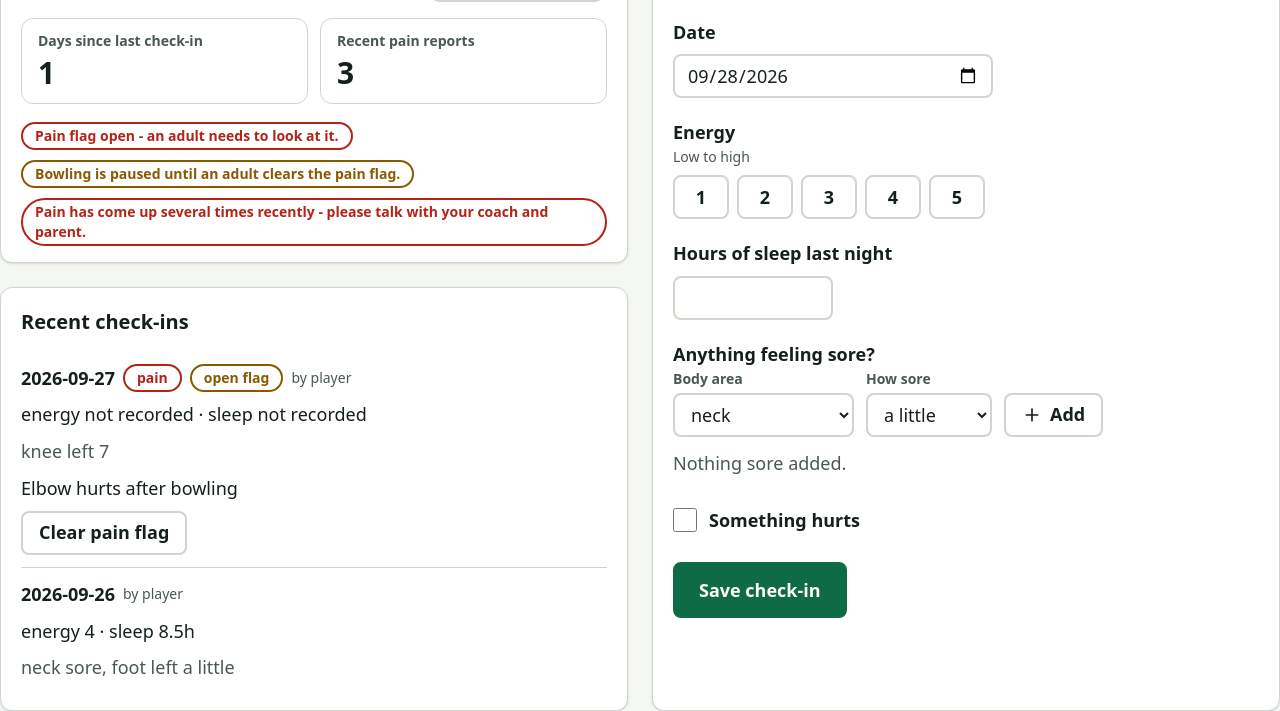
Test: adult pain clearance › closes on Escape and stringifies non-Error failures
(page scrolled)
Click the button "Clear pain flag" at (104, 533), box top-left (21, 511), bottom-right (187, 555)
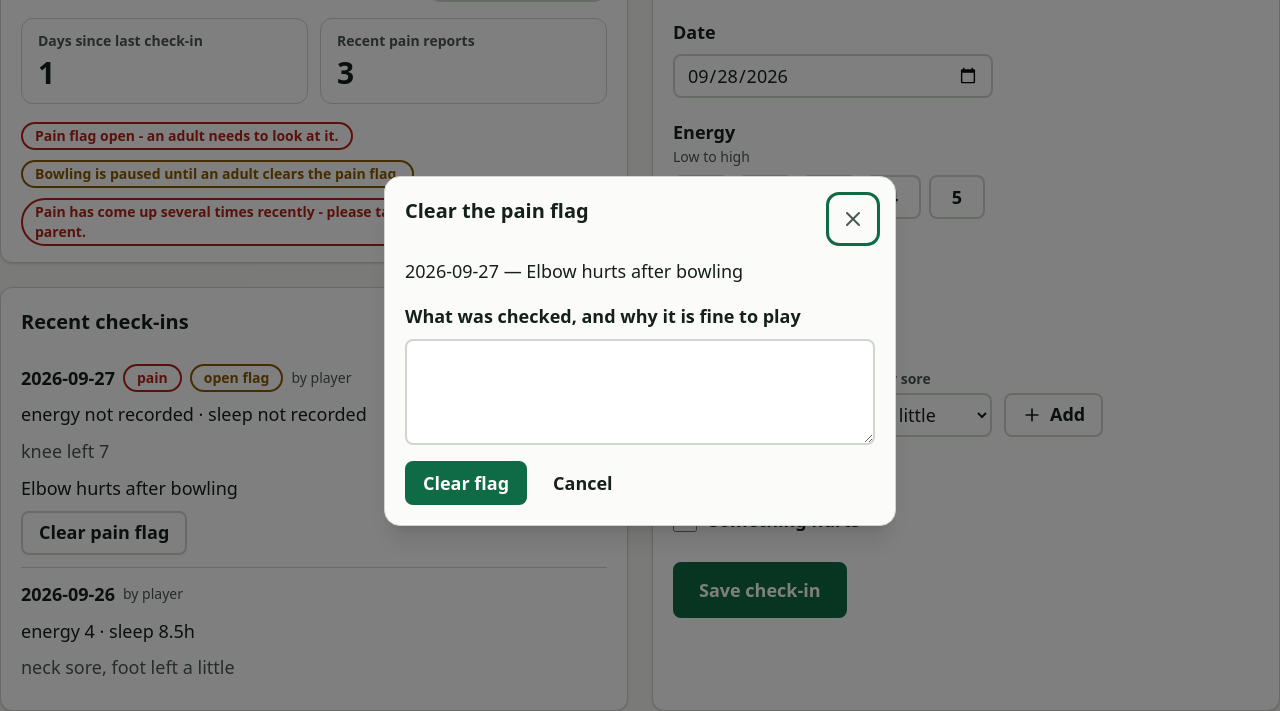
Type "ok" into the text box labelled "What was checked, and why it is fine to play" at (640, 392), box top-left (405, 339), bottom-right (875, 445)
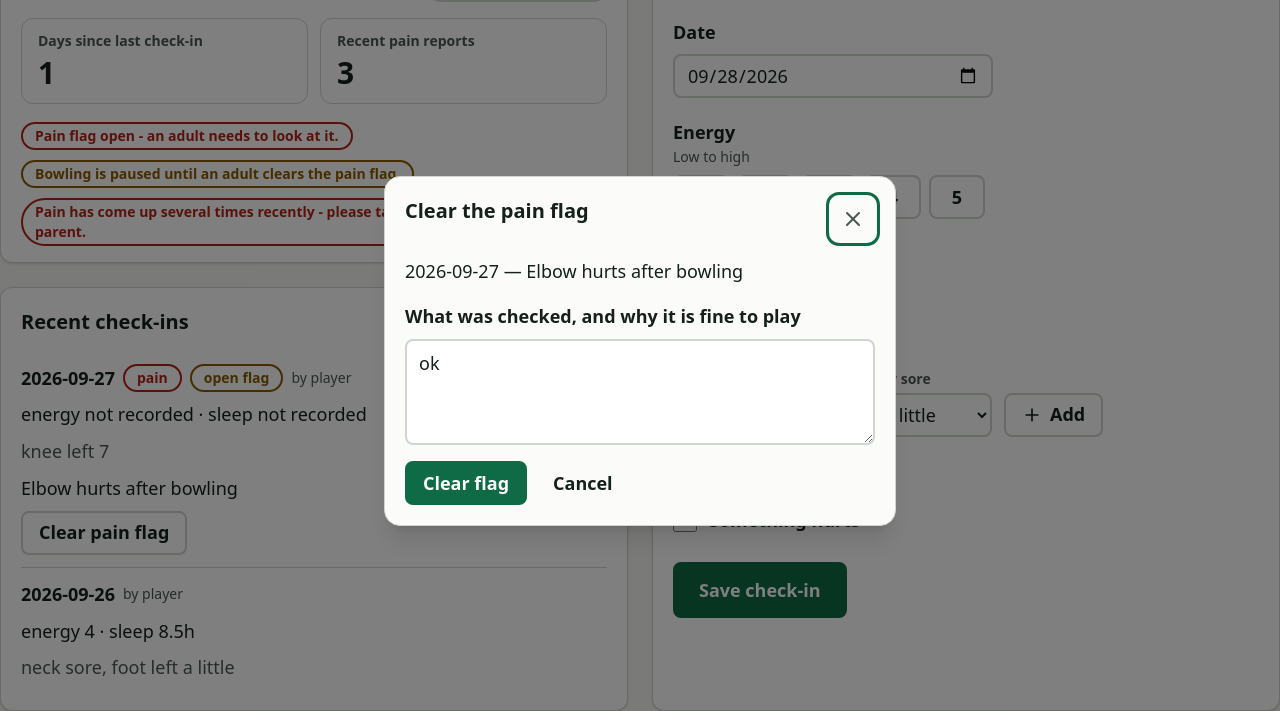
Click the button "Clear flag" at (466, 483), box top-left (405, 461), bottom-right (527, 505)
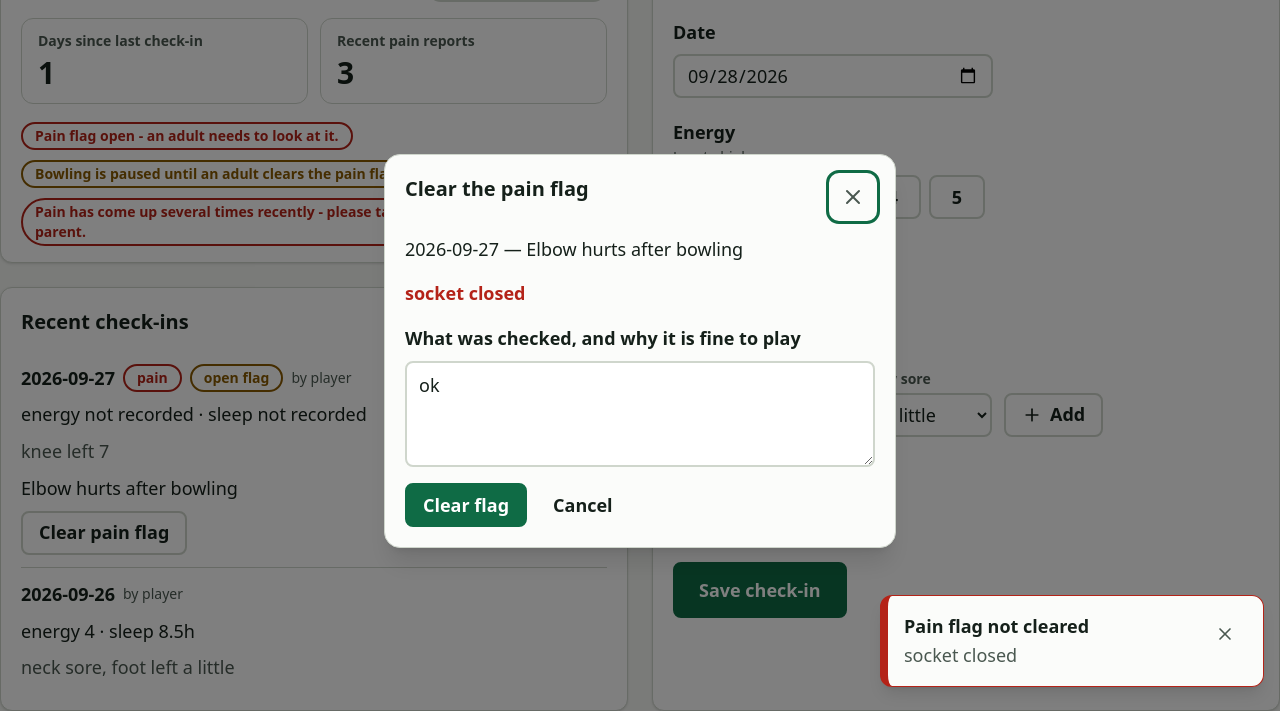
Check: the text "socket closed" is shown, box top-left (405, 281), bottom-right (526, 305)
Press Escape in the dialog, box top-left (384, 154), bottom-right (896, 548)
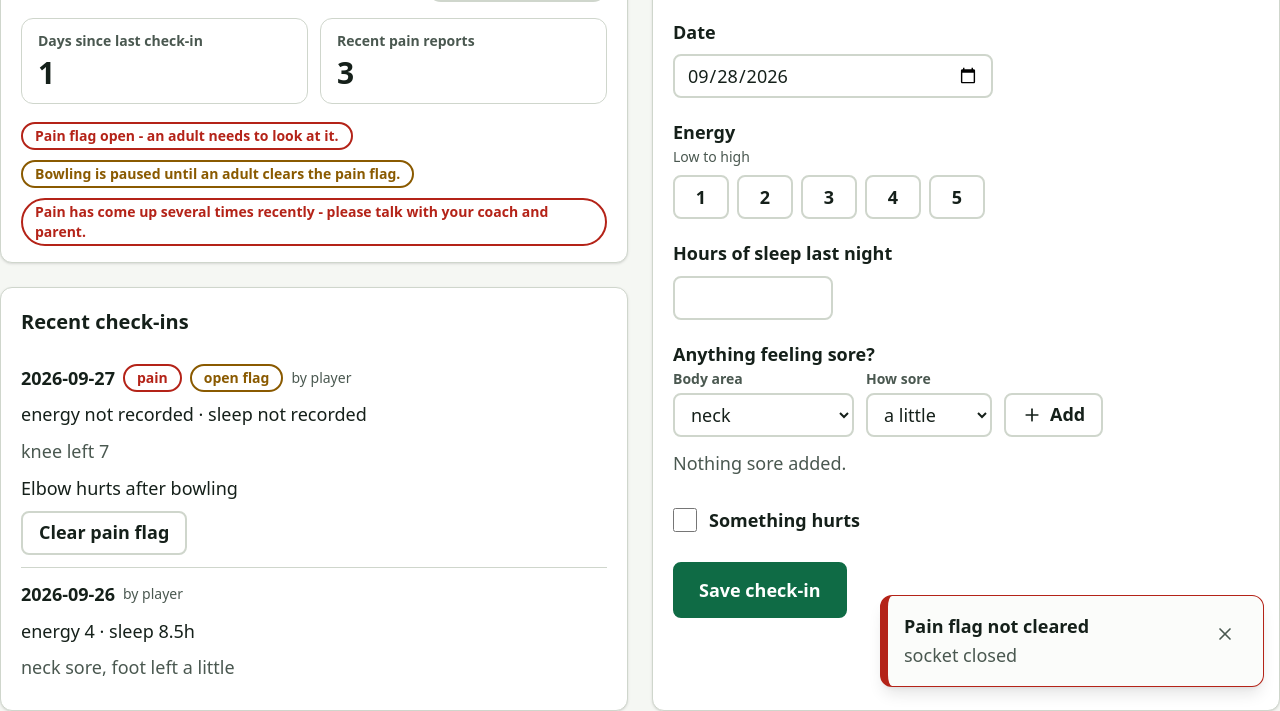
Check: the dialog is gone
